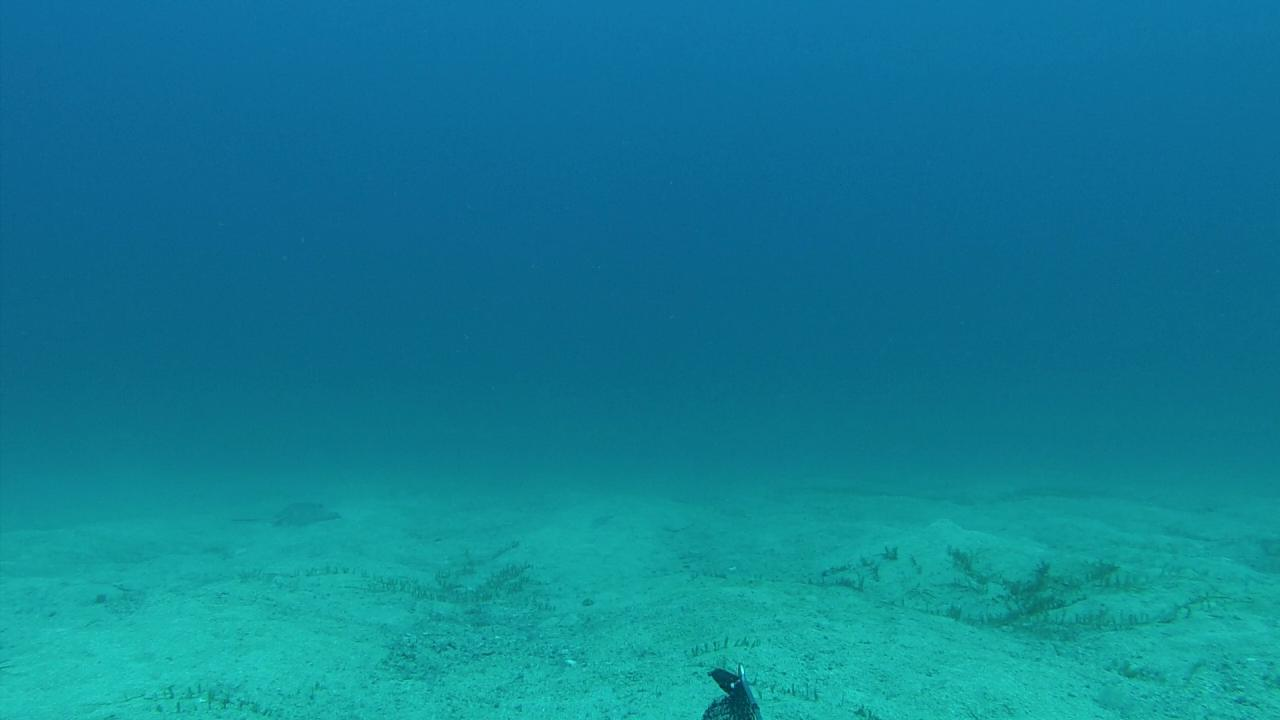dasyatis: (231, 502, 342, 528)
